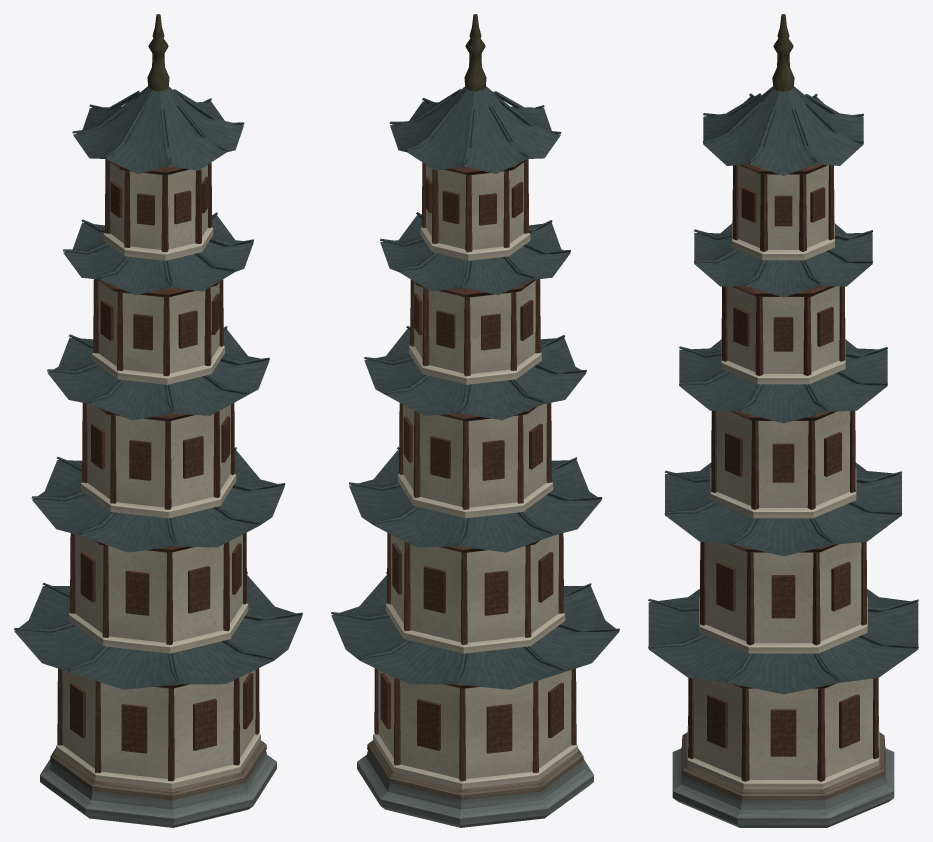
The model's file is distant_pagoda.glb.
The picture shows the model from 3 angles, left to right: view 1: azimuth 30°, elevation 25°; view 2: azimuth 150°, elevation 25°; view 3: azimuth 270°, elevation 25°; orthographic projection.
Parts seen in each view (by area): view 1: distant_pagoda; view 2: distant_pagoda; view 3: distant_pagoda.
Boxes of the visible parts, left/top/right/bottom form: distant_pagoda: left=14, top=14, right=302, bottom=827; distant_pagoda: left=331, top=14, right=619, bottom=827; distant_pagoda: left=648, top=14, right=918, bottom=827.
Size of the model in its own units: 5.75 by 18 by 5.75.
Materials: 1 (1 with a texture image).
